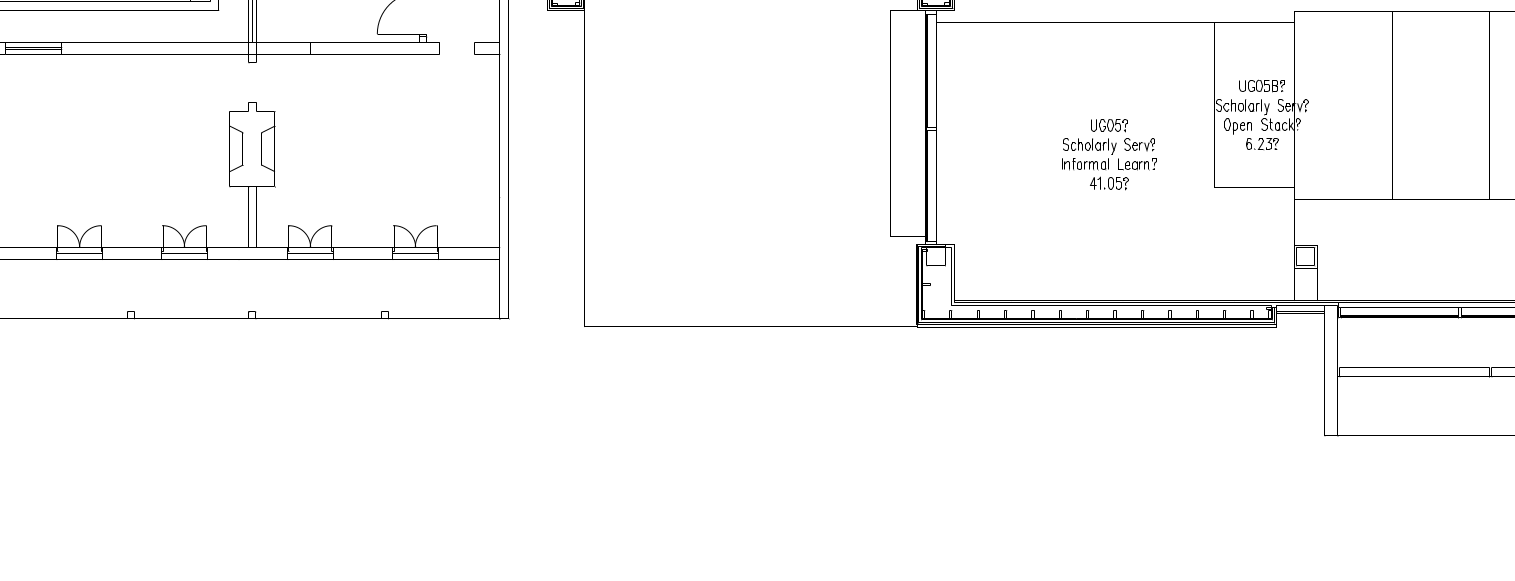door: (388, 210, 447, 251), (279, 206, 338, 247), (156, 207, 215, 248), (51, 209, 110, 250)
